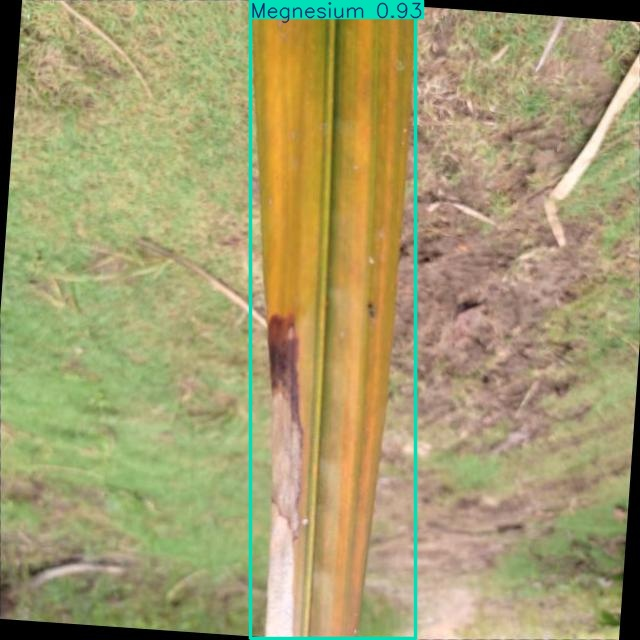Megnesium: (251, 0, 416, 638)
